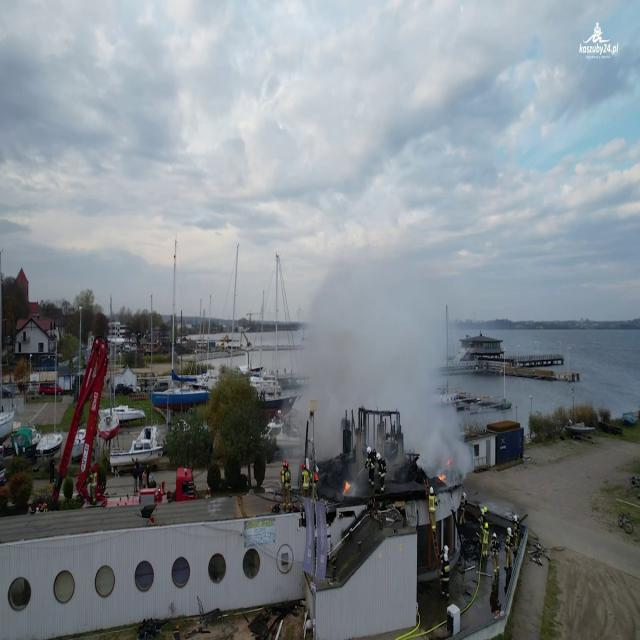Smoke: (274, 187, 475, 477)
